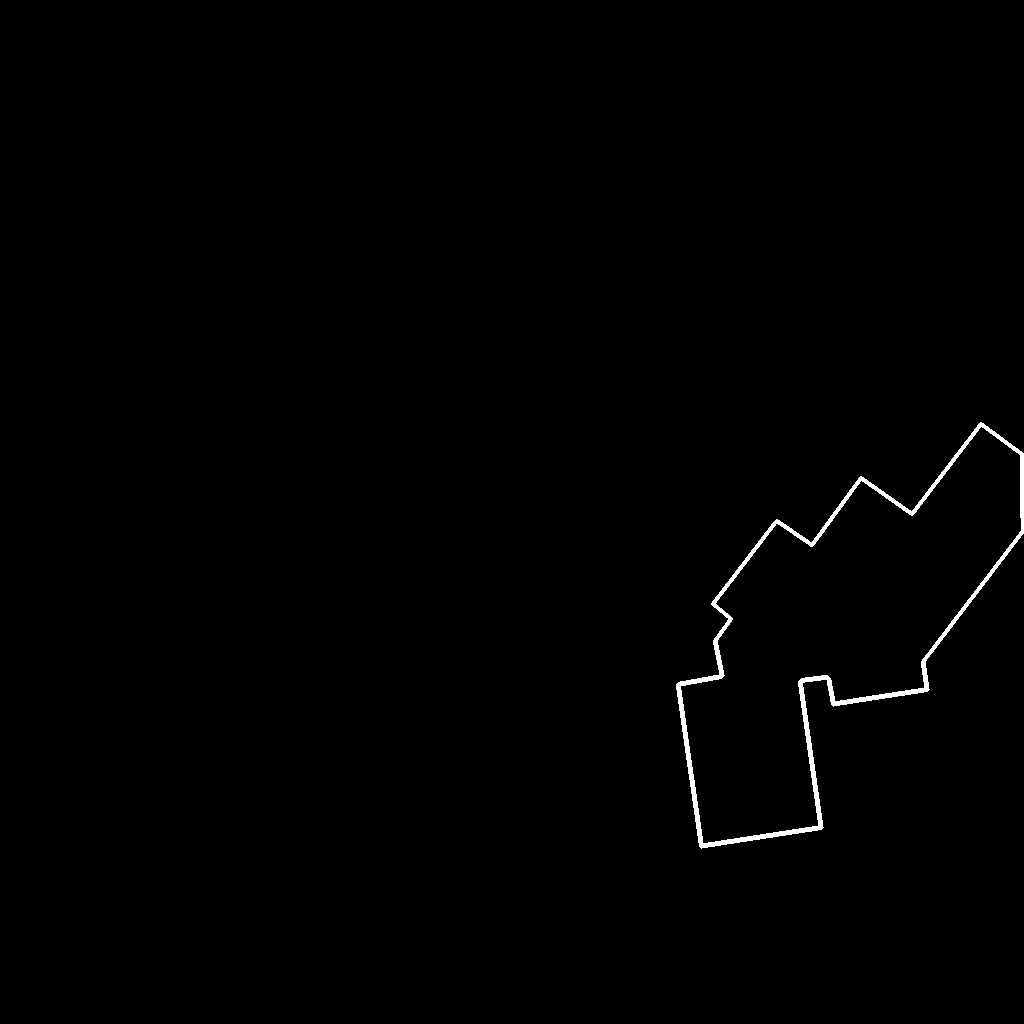building: (678, 424, 1024, 847)
